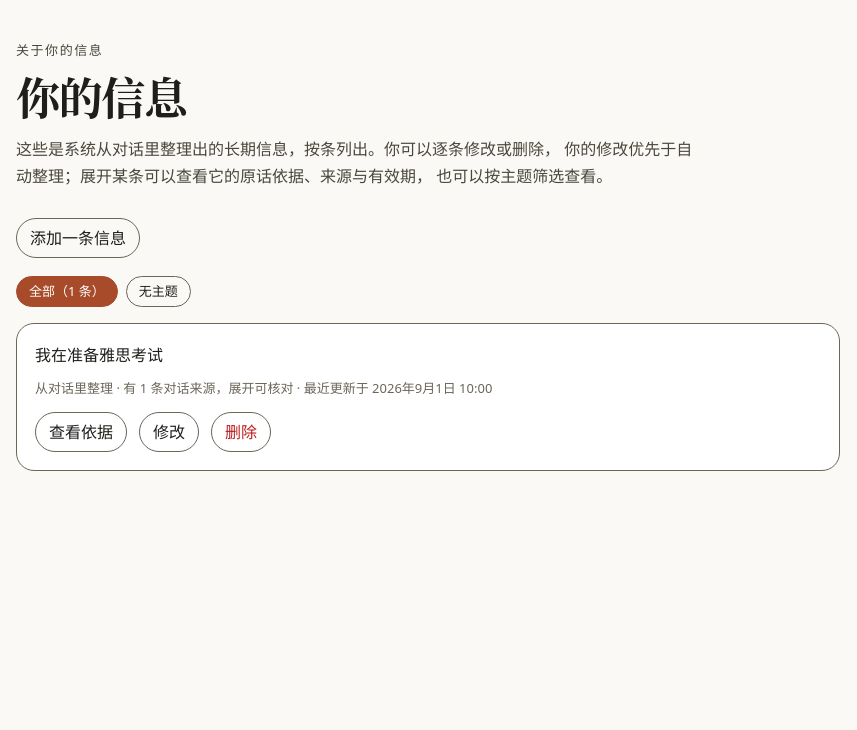
Test: AtomicProfileCenter › 反馈完成后重新读取，忽略重展开时取得的旧反馈列表
The image size is (857, 730).
Step 1. Click the button "查看依据" → x=81, y=432, box 35,412 -> 127,452
(page scrolled)
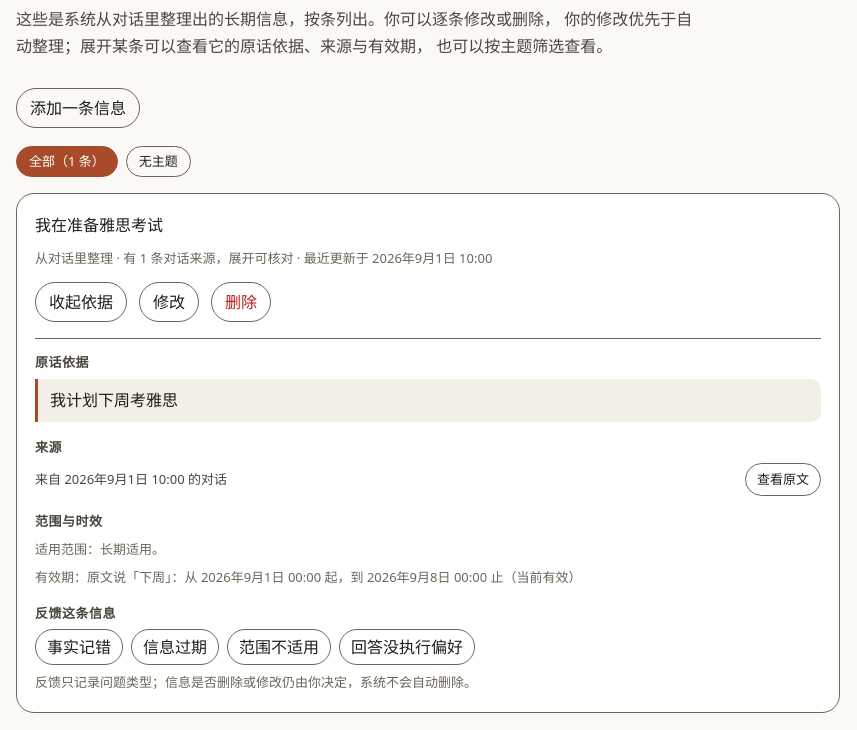
Expected: the button "事实记错" is shown
Step 2. Click the button "事实记错" → x=79, y=647, box 35,629 -> 123,665
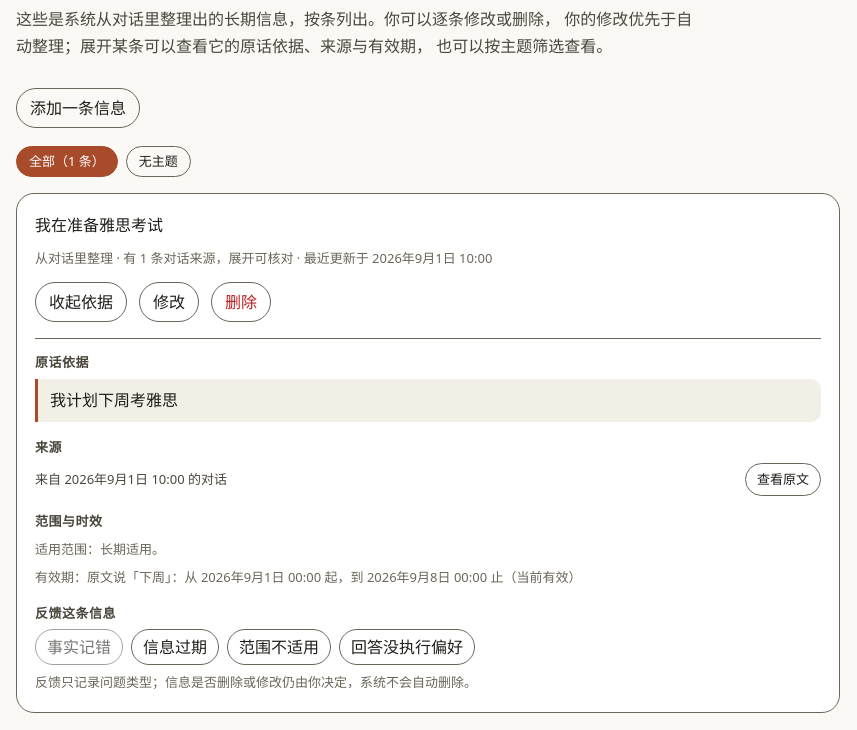
Step 3. Click the button "收起依据" → x=81, y=302, box 35,282 -> 127,322
(page scrolled)
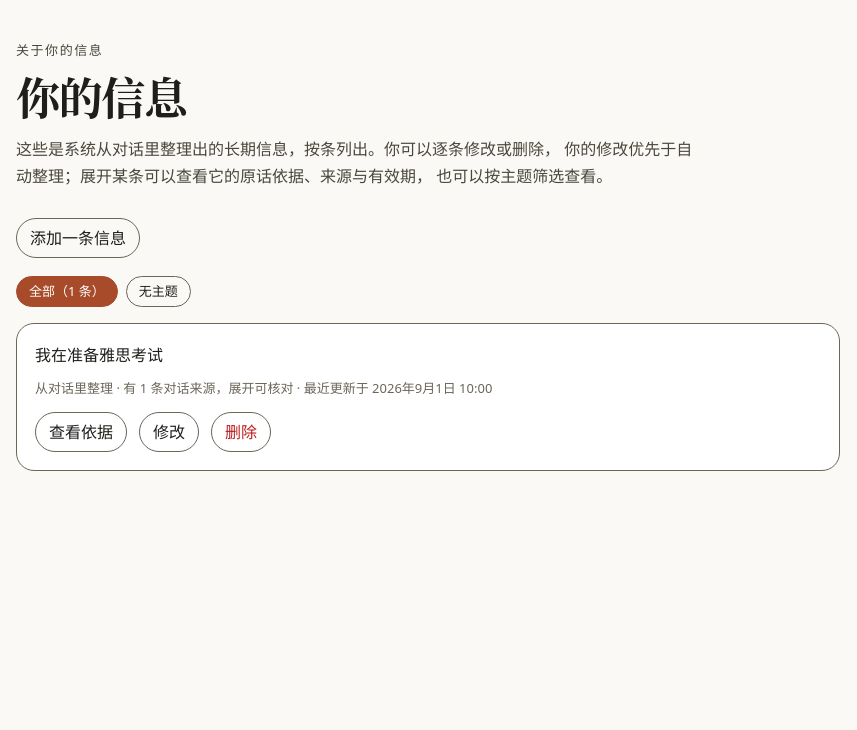
Step 4. Click the button "查看依据" → x=81, y=432, box 35,412 -> 127,452
(page scrolled)
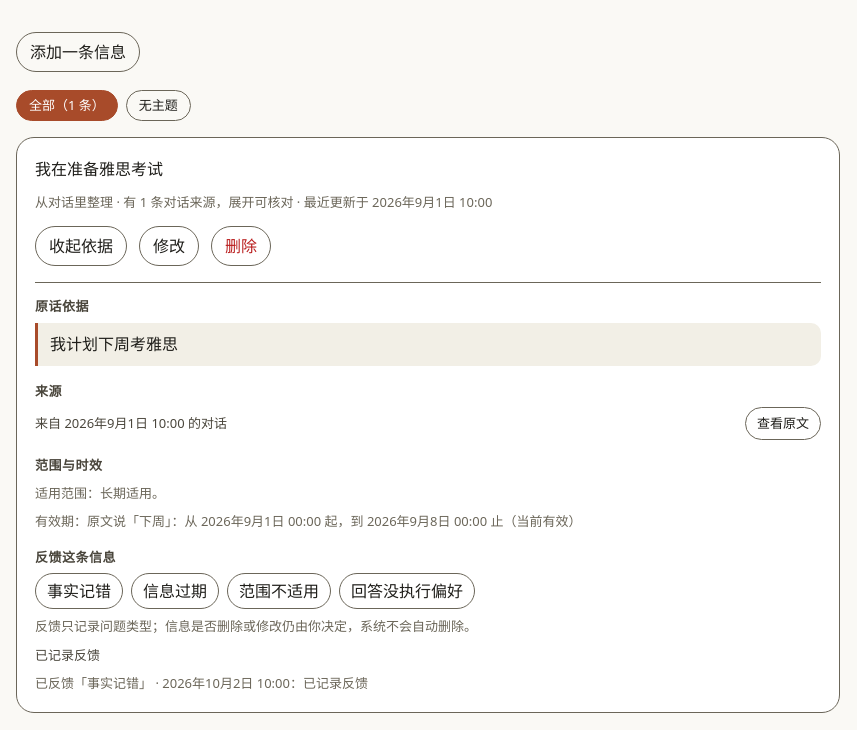
Expected: the message "已记录反馈" is shown, 35,646 -> 100,664
Expected: the element with test id "atomic-evidence" shows "已反馈「事实记错」", 35,282 -> 821,694
